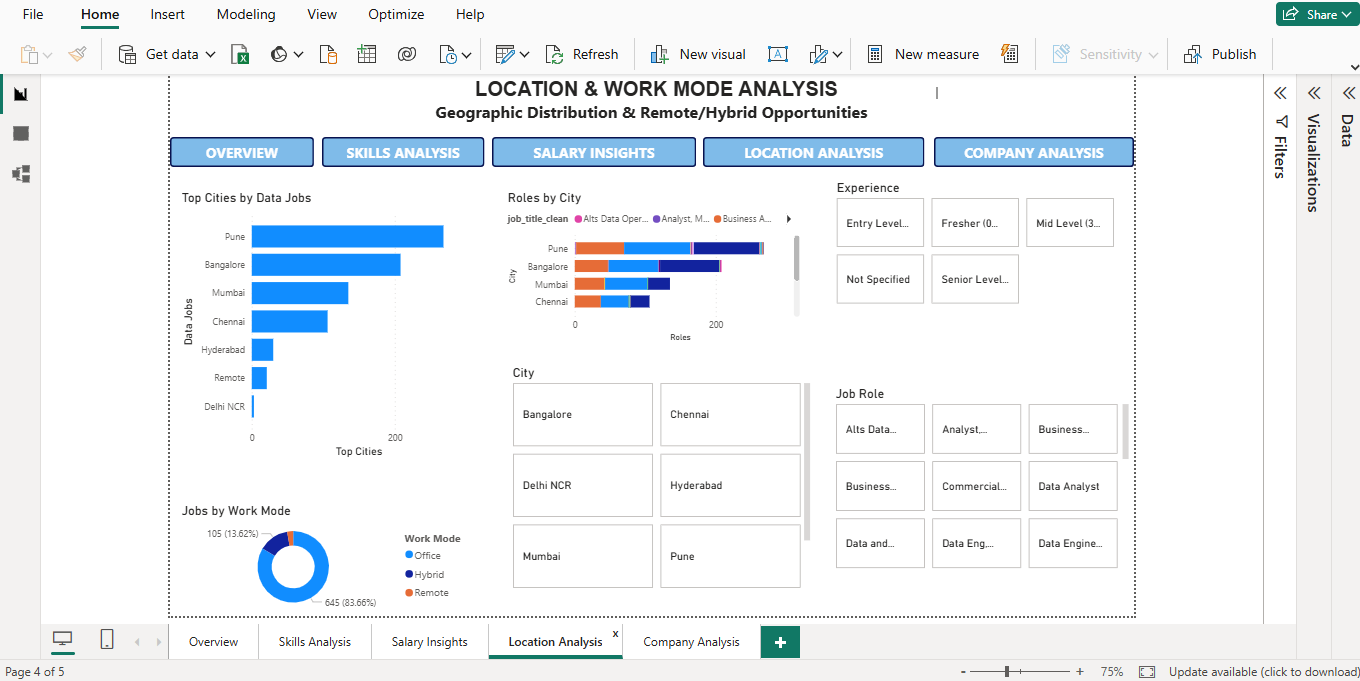

The page's visual inventory and layout, read from the dashboard file:
{"tool":"powerbi","page":{"name":"Location Analysis","canvas":[1280,720],"ordinal":3},"visuals":[{"type":"barChart","fields":{"Category":["cleaned_jobs.primary_city"],"Y":["CountNonNull(cleaned_jobs.job_title)"]},"box":[10.2,153.7,398,360],"z":0},{"type":"donutChart","fields":{"Category":["cleaned_jobs.Work Mode"],"Y":["CountNonNull(cleaned_jobs.job_title)"]},"box":[10.2,569.3,398,150.7],"z":1000},{"type":"barChart","title":"Roles by City ","fields":{"Category":["cleaned_jobs.primary_city"],"Y":["CountNonNull(cleaned_jobs.job_title)"],"Series":["cleaned_jobs.job_title_clean"]},"box":[443.4,153.7,398,206.3],"z":2000},{"type":"advancedSlicerVisual","fields":{"Values":["cleaned_jobs.primary_city"]},"box":[450.7,386.3,405.4,302.9],"z":3000},{"type":"advancedSlicerVisual","fields":{"Values":["cleaned_jobs.job_title_clean"]},"box":[879.5,414.1,399.5,247.3],"z":4000},{"type":"advancedSlicerVisual","fields":{"Values":["cleaned_jobs.experience_level"]},"box":[881,140.5,379,245.9],"z":5000},{"type":"group","id":"g1","title":"Group 1","box":[0,83.4,1280.5,39.5],"z":6000},{"type":"textbox","box":[0,0,1279,83.4],"z":7000},{"type":"actionButton","box":[201.4,83.4,215.7,40],"z":9000,"group":"g1"},{"type":"actionButton","box":[427.1,83.4,271.4,40],"z":10000,"group":"g1"},{"type":"actionButton","box":[708.6,83.4,294.3,40],"z":11000,"group":"g1"},{"type":"actionButton","box":[1014.3,83.4,265.7,40],"z":12000,"group":"g1"},{"type":"actionButton","box":[0,83.4,191.4,40],"z":13000,"group":"g1"}]}

Visuals, with their boxes on the page's 1280x720 design canvas (x1, y1, x2, y2). These are canvas units, not pixel positions in the 1360x681 screenshot, which may show the page scaled, cropped or inside an application window:
barChart - cleaned_jobs.primary_city x CountNonNull(cleaned_jobs.job_title): left=10, top=154, right=408, bottom=514
donutChart - cleaned_jobs.Work Mode x CountNonNull(cleaned_jobs.job_title): left=10, top=569, right=408, bottom=720
"Roles by City " barChart: left=443, top=154, right=841, bottom=360
advancedSlicerVisual - cleaned_jobs.primary_city: left=451, top=386, right=856, bottom=689
advancedSlicerVisual - cleaned_jobs.job_title_clean: left=880, top=414, right=1279, bottom=661
advancedSlicerVisual - cleaned_jobs.experience_level: left=881, top=140, right=1260, bottom=386
"Group 1" group: left=0, top=83, right=1280, bottom=123
textbox: left=0, top=0, right=1279, bottom=83
actionButton: left=201, top=83, right=417, bottom=123
actionButton: left=427, top=83, right=698, bottom=123
actionButton: left=709, top=83, right=1003, bottom=123
actionButton: left=1014, top=83, right=1280, bottom=123
actionButton: left=0, top=83, right=191, bottom=123
